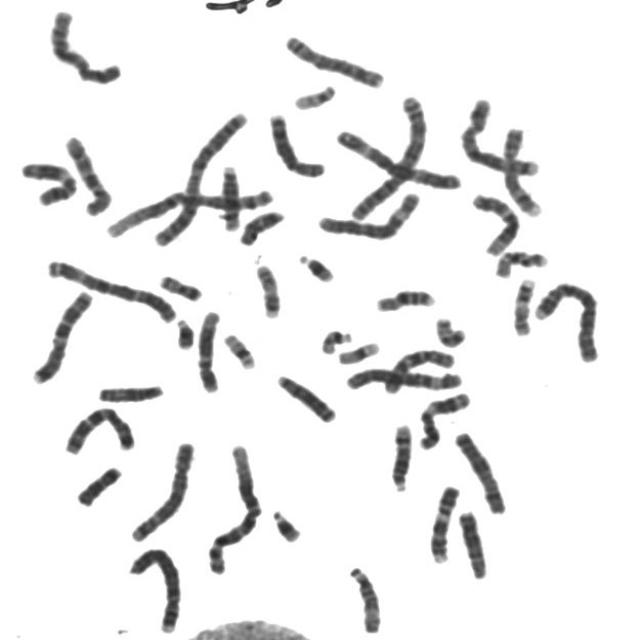A1: (99, 180, 278, 240), (202, 438, 265, 577)
A2: (146, 103, 253, 250), (345, 88, 431, 223)
A3: (41, 252, 181, 324), (331, 122, 465, 191)
B4: (530, 274, 606, 365), (123, 540, 186, 636)
B5: (126, 434, 199, 544), (456, 90, 544, 177)
C10: (58, 128, 116, 217), (379, 342, 459, 396)
C11: (414, 385, 475, 450), (15, 154, 82, 208)
C12: (467, 186, 524, 257), (192, 304, 225, 394)
C6: (313, 185, 426, 242), (340, 360, 469, 392)
C7: (27, 282, 97, 385), (59, 400, 140, 456)
C8: (280, 28, 389, 89), (264, 105, 331, 178)
C9: (496, 120, 546, 218), (425, 478, 464, 565)
D13: (271, 367, 340, 425), (453, 504, 492, 580)
D14: (386, 417, 417, 493), (216, 160, 245, 232)
D15: (343, 558, 386, 634), (93, 377, 168, 404)
E16: (490, 242, 552, 278), (372, 282, 439, 314)
E17: (251, 257, 286, 319), (509, 271, 539, 338)
E18: (72, 459, 126, 508), (234, 203, 289, 247)
F19: (219, 326, 260, 371), (333, 335, 384, 365)
F20: (154, 268, 207, 302), (430, 310, 470, 349)
G21: (266, 501, 307, 545), (294, 247, 339, 284), (168, 314, 199, 354)
G22: (289, 77, 341, 111), (316, 322, 356, 356)
X: (44, 3, 127, 86), (451, 425, 512, 516)
